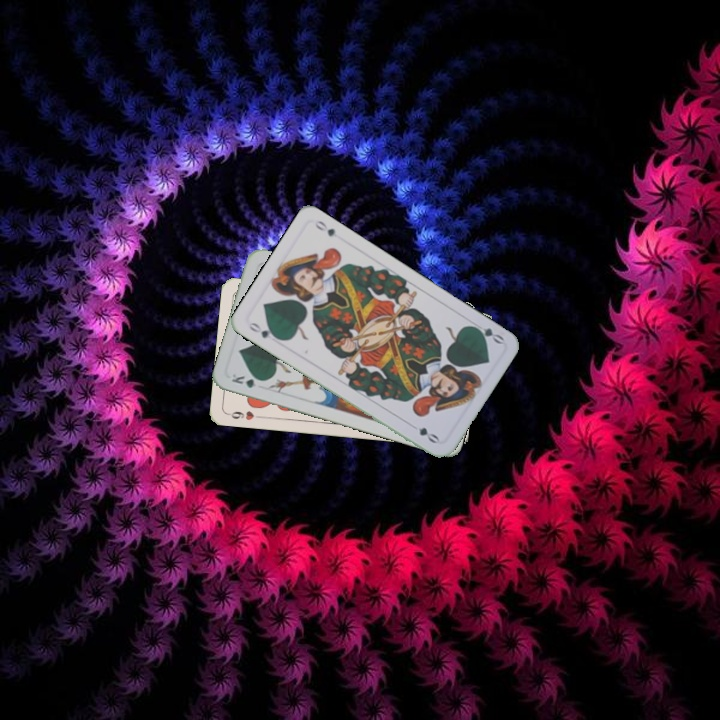GK: (228, 370, 267, 391)
GO: (467, 318, 506, 347), (245, 318, 282, 342)
H9: (224, 407, 265, 423)
